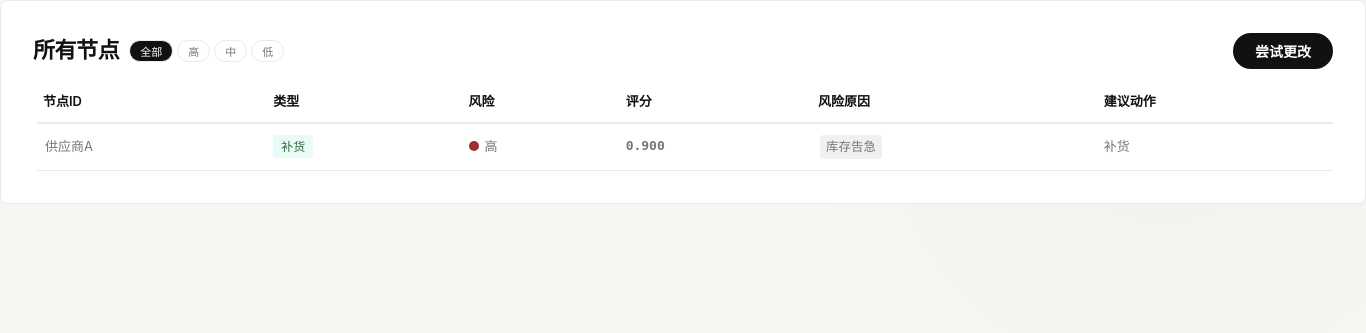
it: RiskNodeTable › renders a clickable Try Change button in app mode
The width and height of the screenshot is (1366, 333).
点击进入编辑态：开始并发拉取参数
Click the button "尝试更改": [1283, 51] box [1233,33,1333,69]
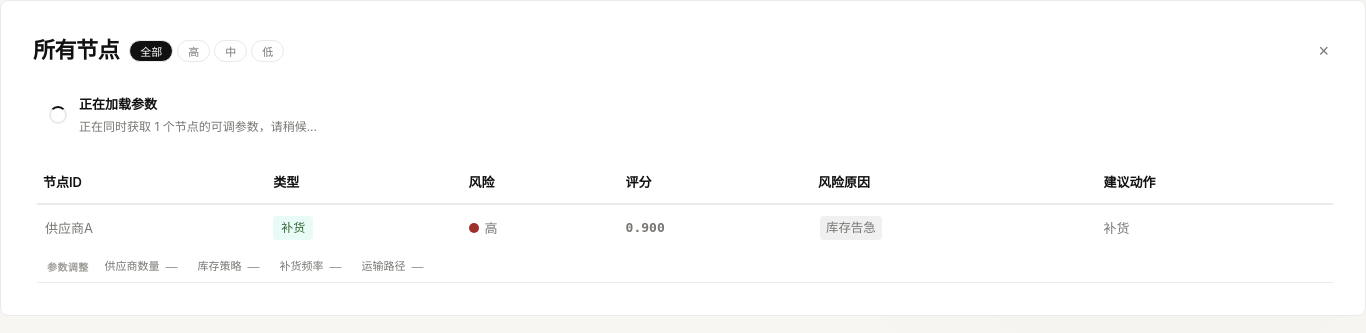
expect the text "正在加载参数" is shown: met, box [79,96,157,112]
